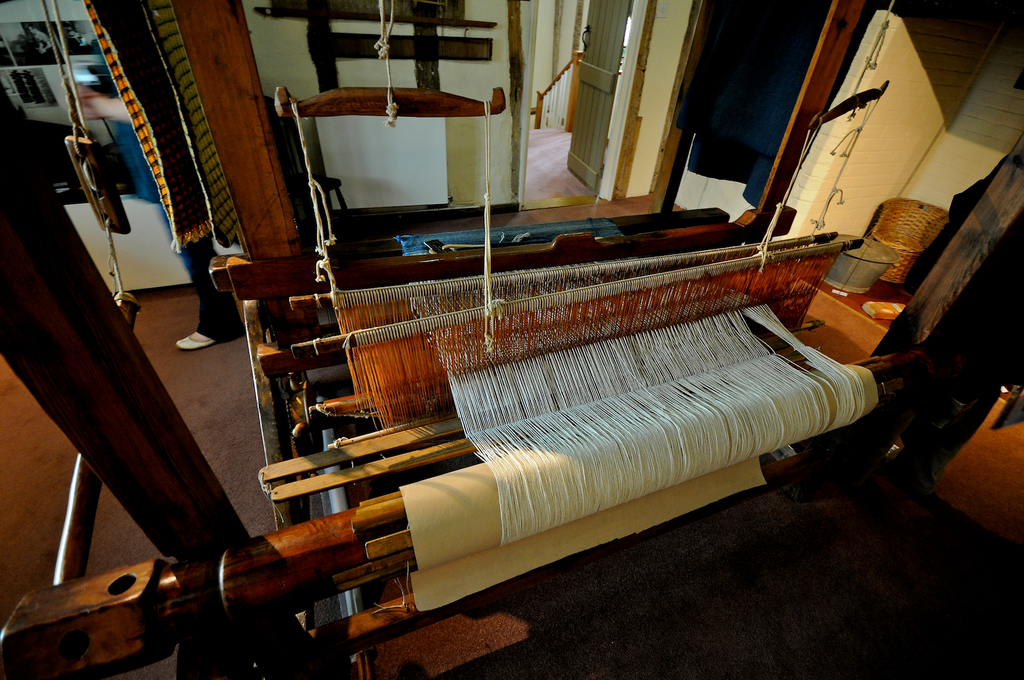person: (73, 1, 297, 350)
